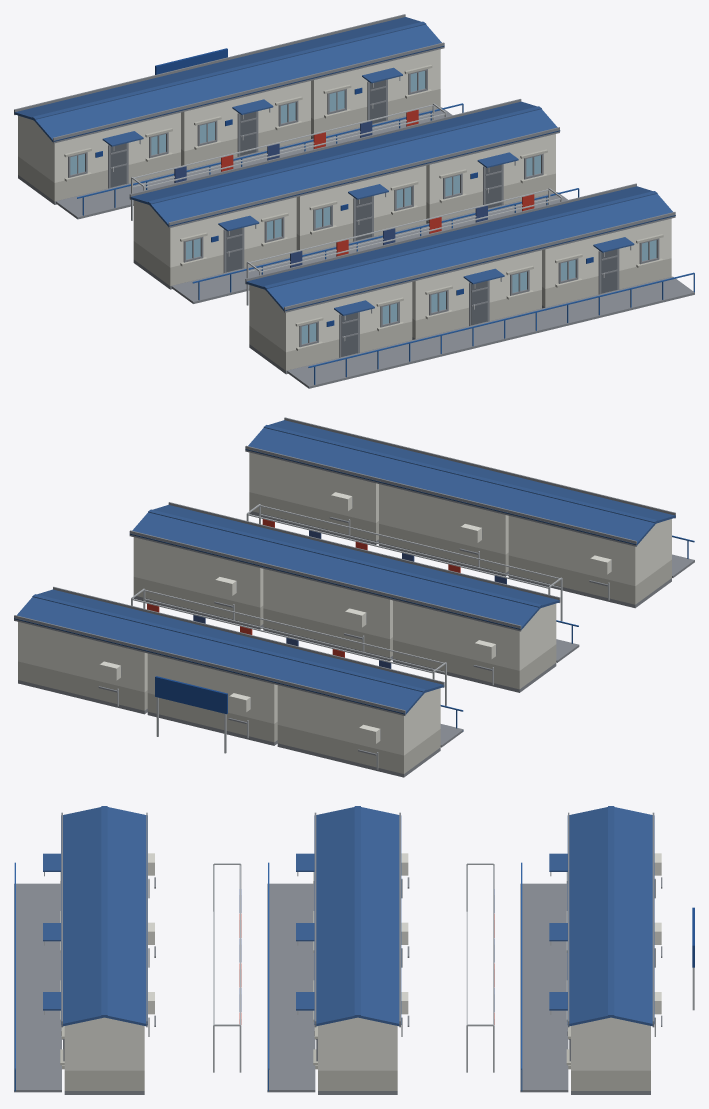
File: labor_camp.glb
The picture shows the model from 3 angles, top to bottom: view 1: azimuth 30°, elevation 25°; view 2: azimuth 150°, elevation 25°; view 3: azimuth 270°, elevation 25°; orthographic projection. The views are drawn at different scales.
Visible parts, largest first — view 1: LaborCamp; view 2: LaborCamp; view 3: LaborCamp.
Part boxes in pixels (box(x1,y1,x2,y2)): LaborCamp: box(14, 14, 694, 388); LaborCamp: box(14, 417, 694, 777); LaborCamp: box(14, 806, 694, 1094).
Bounding box in the file's own units: 18.54 × 3.37 × 25.55.
